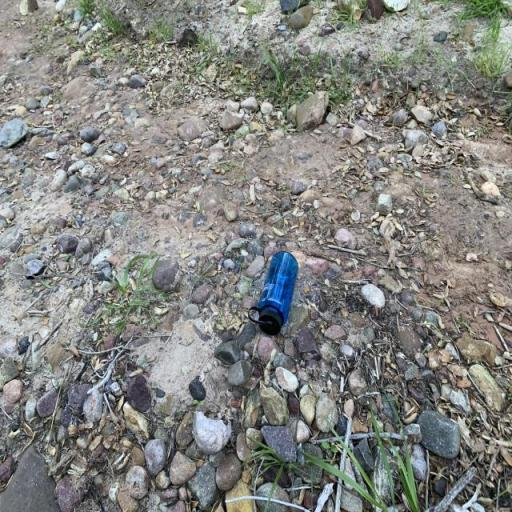bottle: (248, 250, 298, 336)
